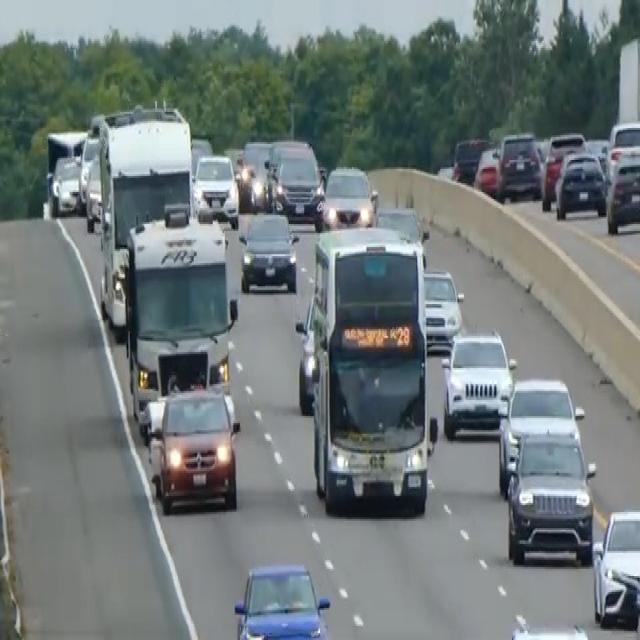bus: (307, 222, 437, 516), (122, 201, 238, 428)
car: (505, 423, 596, 565), (147, 384, 240, 514), (497, 375, 584, 496), (440, 325, 516, 439), (232, 560, 331, 638), (591, 507, 639, 629), (239, 208, 299, 293), (268, 140, 324, 224), (320, 162, 378, 229), (554, 147, 607, 220), (422, 265, 464, 350), (192, 151, 239, 226), (540, 130, 585, 208), (495, 130, 541, 201), (294, 290, 318, 414), (605, 146, 639, 233), (235, 139, 272, 208), (375, 202, 428, 244), (502, 614, 594, 638), (45, 128, 86, 178), (49, 153, 82, 215), (451, 133, 490, 185), (77, 133, 100, 210), (473, 144, 501, 197), (83, 157, 103, 231)
